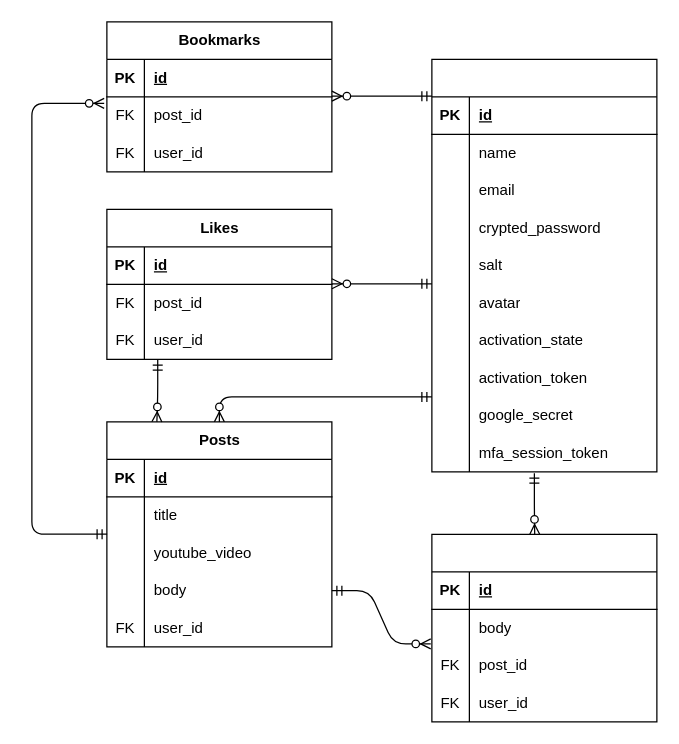
This 679x744 diagram has some shape labels left out. The shapes that lost their labels are listed below. From the top down, each one's box as (x1, y1, x2, y2) in pixels, then its label:
(431, 58, 657, 472): Users
(431, 533, 657, 722): Comments
